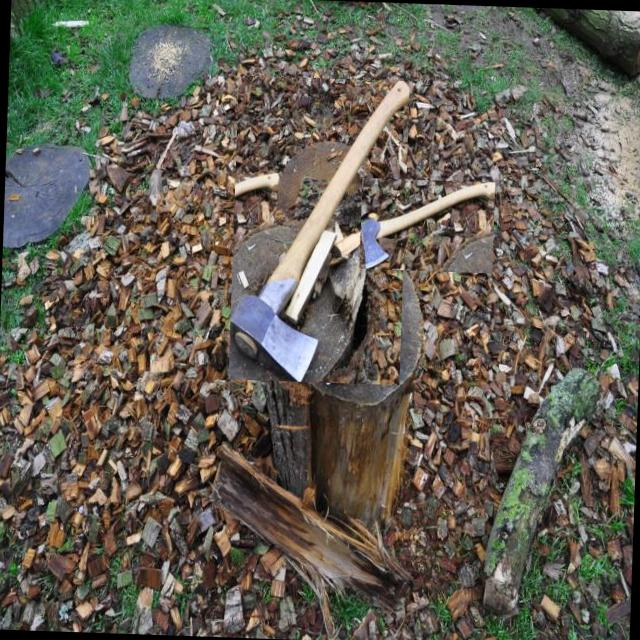Axe: (230, 81, 409, 381), (361, 182, 495, 269)
